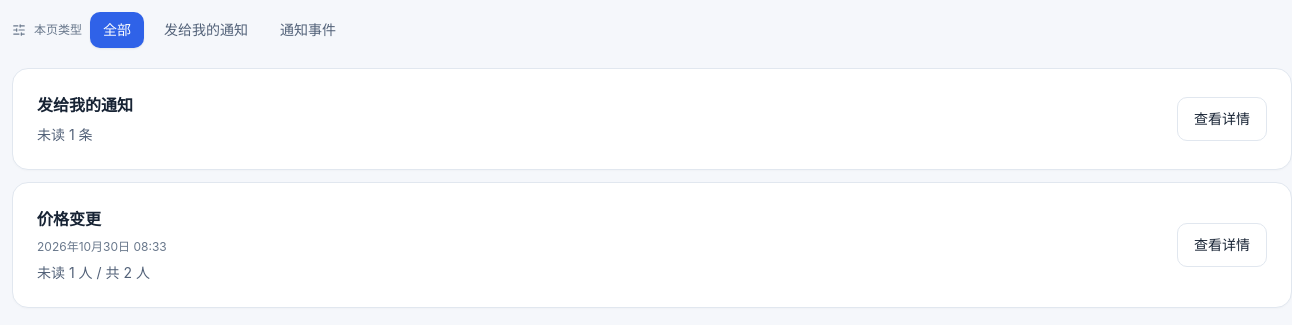
it: filters notification groups with localized type labels
The image size is (1292, 325).
expect the button "通知事件" is shown: met, box [268,12,348,48]
expect the heading "发给我的通知" is shown: met, box [37,93,133,117]
Click the button "发给我的通知". click: (206, 30)
box: [152,12,260,48]
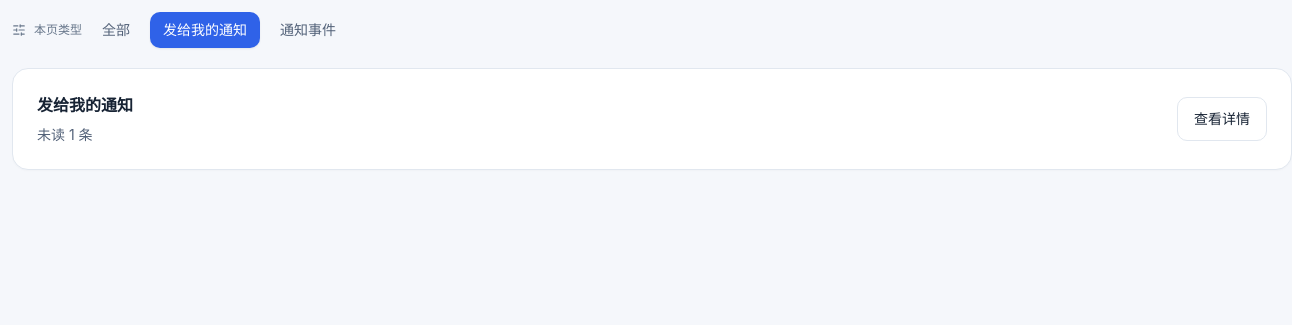
expect the heading "发给我的通知" is shown: met, box [37,93,133,117]
expect the heading "价格变更" is gone: met
Click the button "通知事件". click: (308, 30)
box: [268,12,348,48]
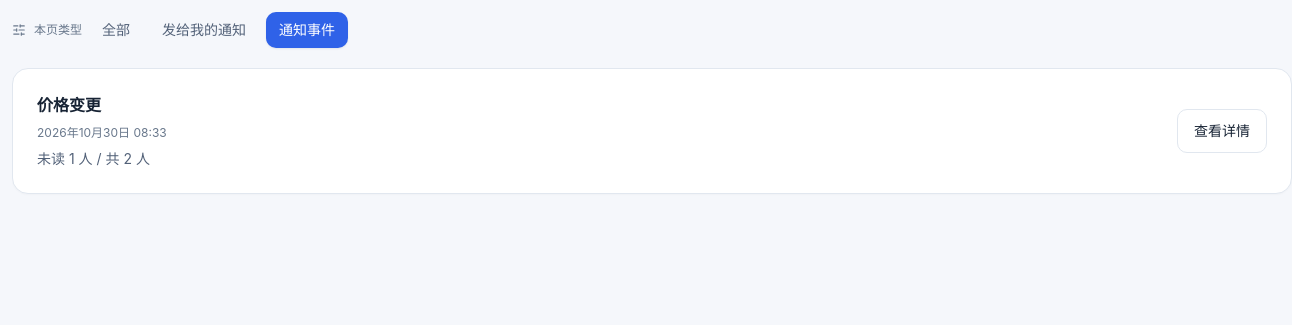
expect the heading "价格变更" is shown: met, box [37,95,101,115]
Click the button "全部". click: (116, 30)
box: [90,12,142,48]
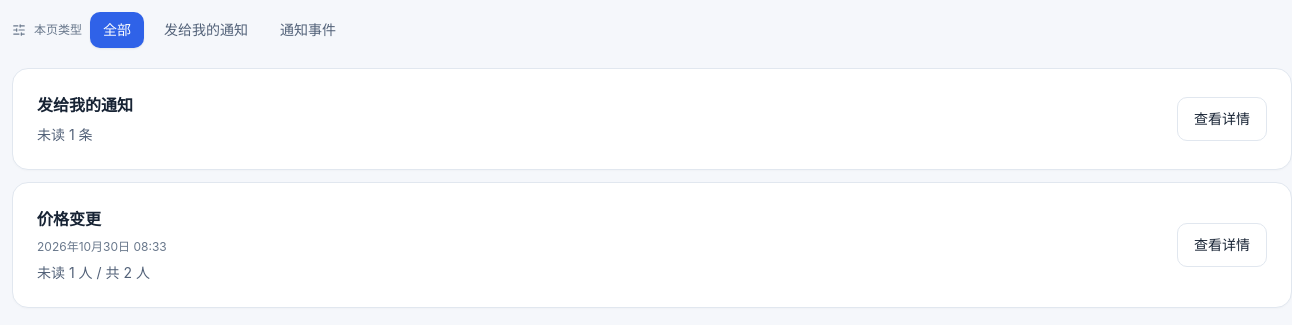
expect the heading "价格变更" is shown: met, box [37,209,101,229]
expect the heading "发给我的通知" is shown: met, box [37,93,133,117]
